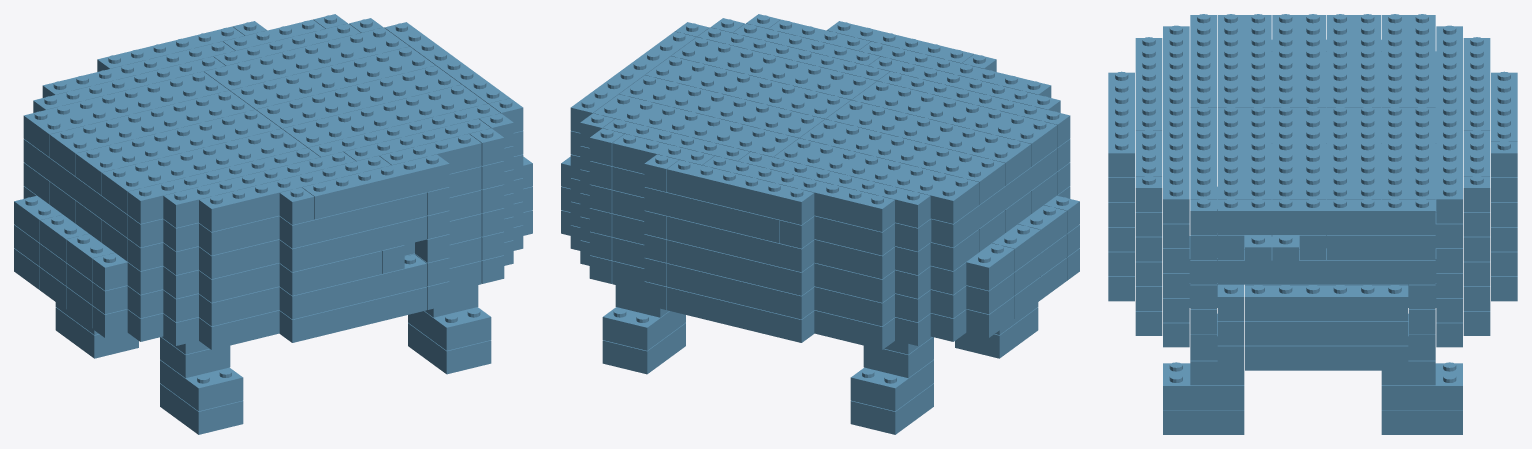
The model's file is 249_train_L4.glb.
3 views of the same model, side by side, from view 1: azimuth 30°, elevation 25°; view 2: azimuth 150°, elevation 25°; view 3: azimuth 270°, elevation 25° (orthographic). The views are drawn at different scales.
Size of the model in its own units: 18.98 by 10.13 by 14.98.
